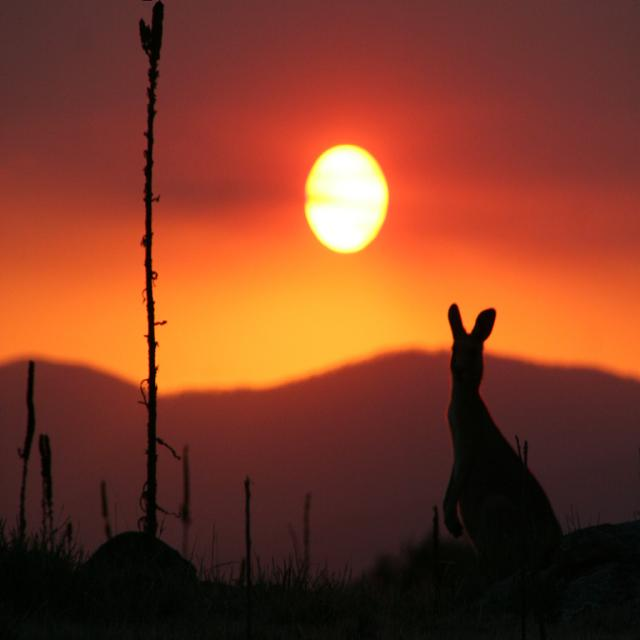no_fire: (177, 116, 472, 370)
